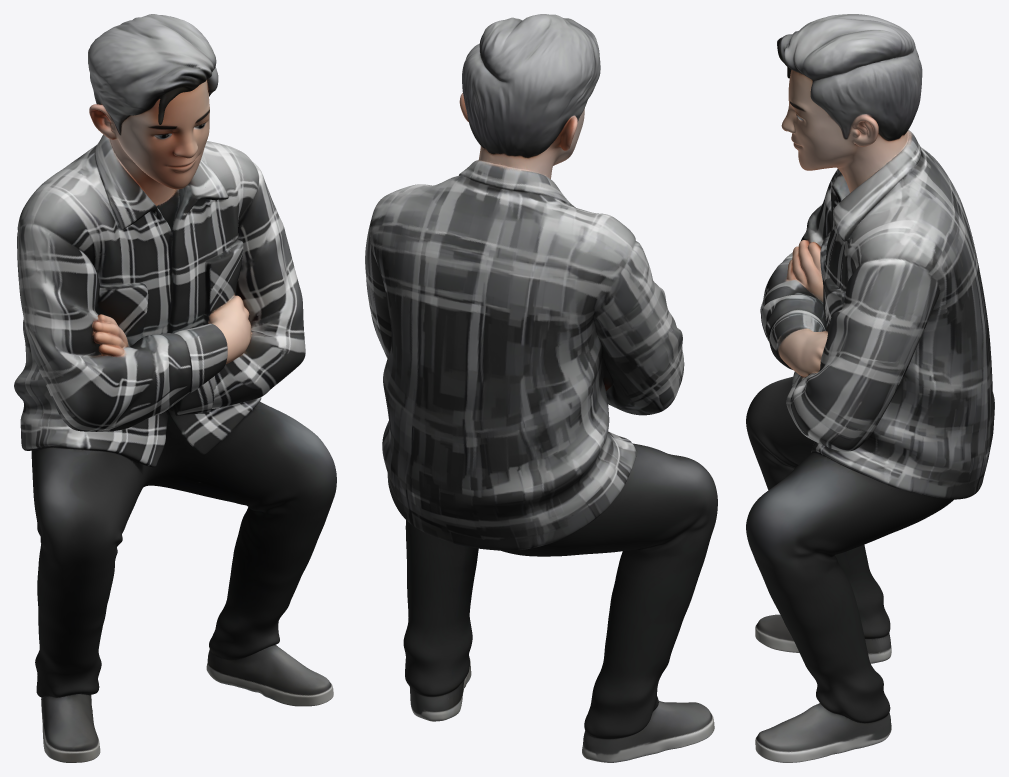
The model's file is RifkyFS.fbx.
3 renders of one model, left to right at view 1: azimuth 30°, elevation 25°; view 2: azimuth 150°, elevation 25°; view 3: azimuth 270°, elevation 25°, orthographic. The views are drawn at different scales.
Parts seen in each view (by area): view 1: tripo_node_bf0f0891; view 2: tripo_node_bf0f0891; view 3: tripo_node_bf0f0891.
Part boxes in pixels (box(x1,y1,x2,y2)): tripo_node_bf0f0891: box(14, 14, 336, 762); tripo_node_bf0f0891: box(365, 14, 717, 762); tripo_node_bf0f0891: box(746, 14, 994, 762).
Bounding box in the file's own units: 0.4408 × 1 × 0.3342.
